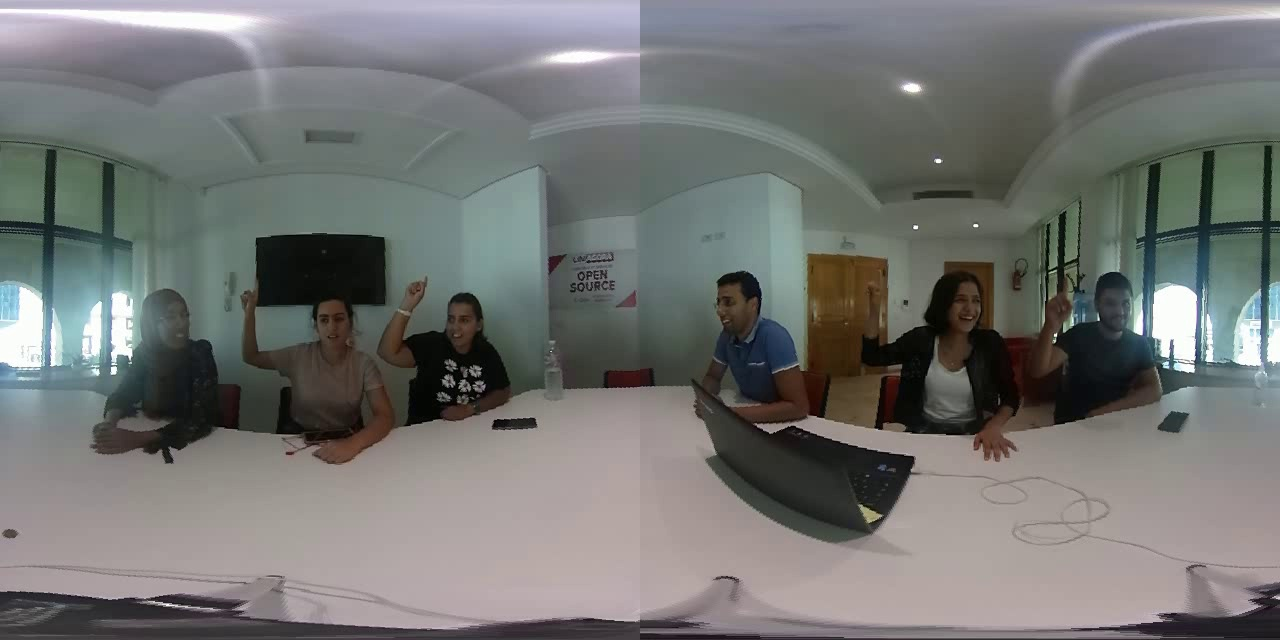hand_up: (225, 277, 283, 383), (380, 277, 437, 377), (1031, 277, 1076, 391), (862, 274, 904, 379)
person: (861, 262, 1028, 456), (238, 279, 392, 465), (82, 282, 228, 452), (376, 274, 520, 434), (1032, 268, 1171, 431), (682, 265, 819, 415)
